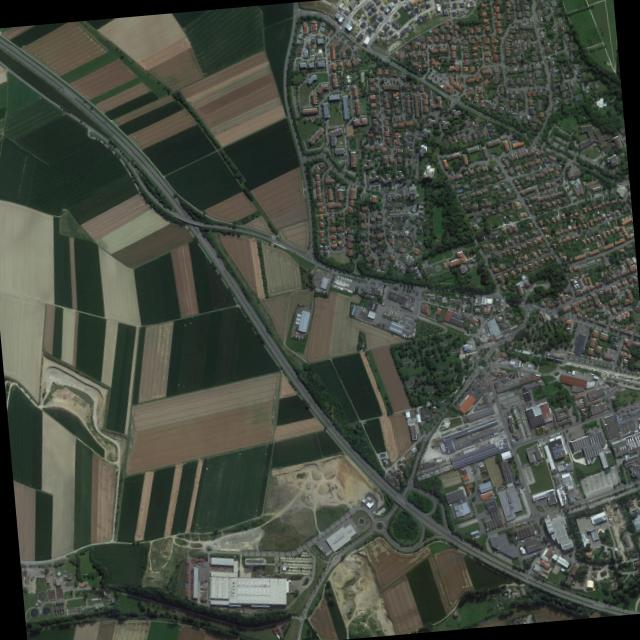storage-tank: (56, 571, 60, 575)
